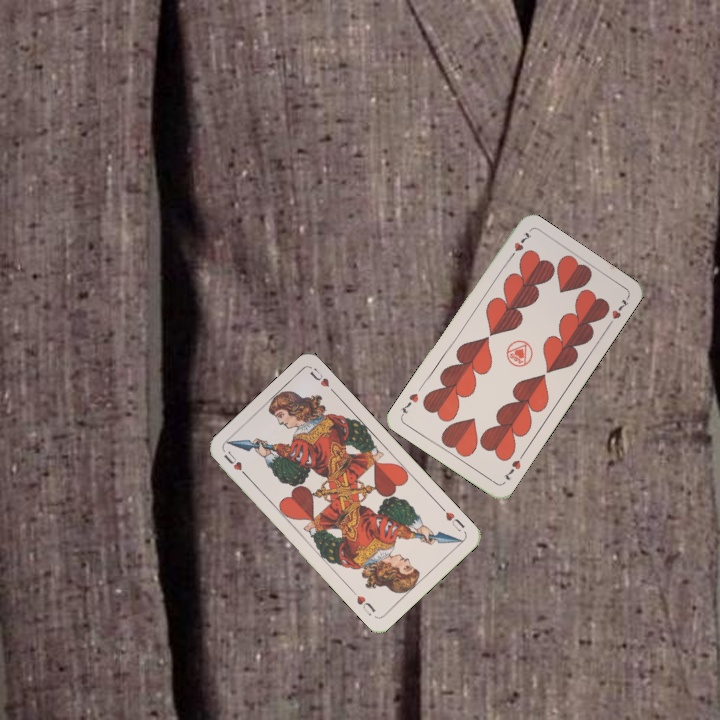H7: (504, 228, 533, 262), (500, 449, 526, 483)
HU: (219, 447, 251, 480), (437, 502, 468, 534)
